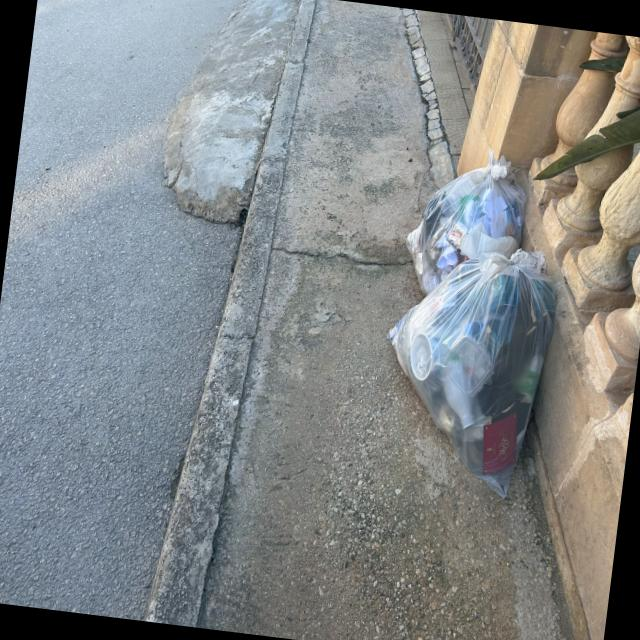grey_bag: (366, 232, 566, 508), (395, 136, 537, 308)
